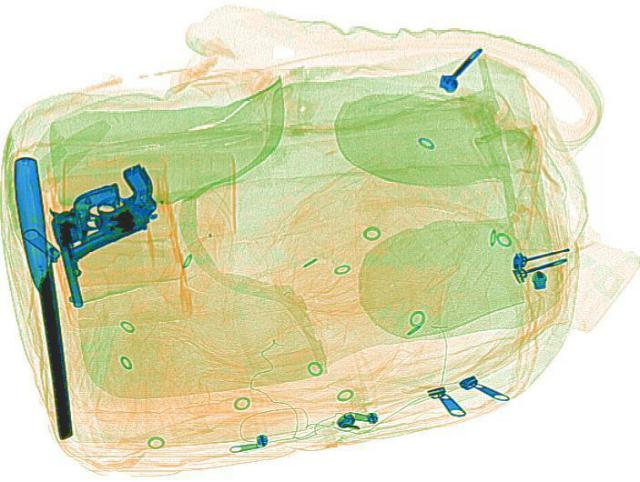Gun: (27, 160, 186, 260), (38, 179, 146, 305)
Knife: (7, 154, 77, 437)
